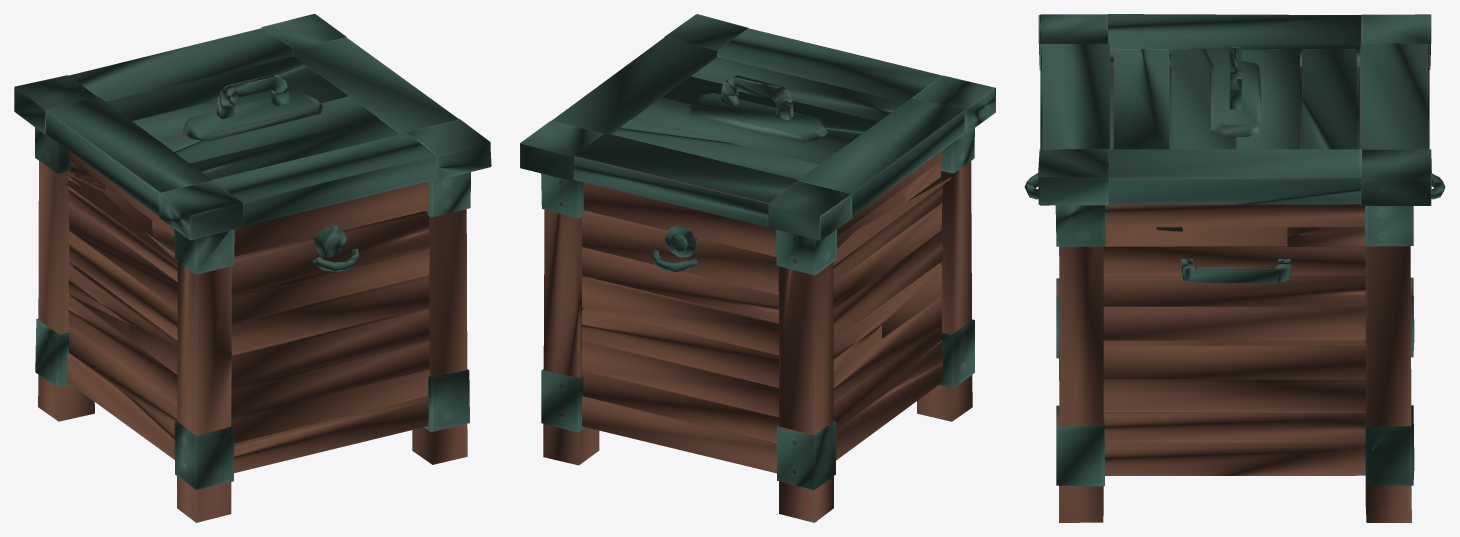
3 renders of one model, left to right at view 1: azimuth 30°, elevation 25°; view 2: azimuth 150°, elevation 25°; view 3: azimuth 270°, elevation 25°, orthographic. The views are drawn at different scales.
Parts seen in each view (by area): view 1: Mesh_0; view 2: Mesh_0; view 3: Mesh_0.
Boxes of the visible parts, x1,y1,x2,y2 form: Mesh_0: [14, 14, 491, 522]; Mesh_0: [520, 14, 995, 522]; Mesh_0: [1024, 14, 1445, 522].
Bounding box in the file's own units: 90.43 × 100 × 97.85.
1 material, 1 textured.
